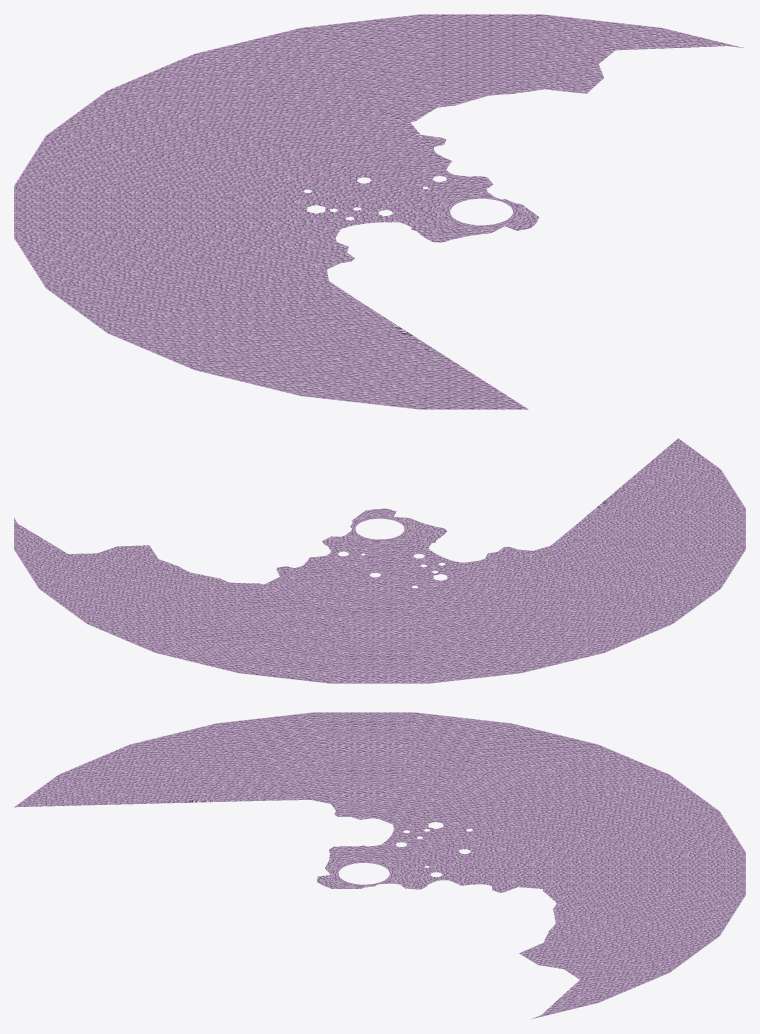
The model's file is mareseapollutions12.dae.
3 renders of one model, top to bottom at view 1: azimuth 30°, elevation 25°; view 2: azimuth 150°, elevation 25°; view 3: azimuth 270°, elevation 25°, orthographic. The views are drawn at different scales.
Visible parts, largest first — view 1: m0; view 2: m0; view 3: m0.
Part boxes in pixels (bbox=[...]): m0: bbox=[14, 14, 743, 409]; m0: bbox=[14, 438, 745, 683]; m0: bbox=[14, 712, 745, 1019].
Bounding box in the file's own units: 60402 × 0 × 60811.
1 material, 1 textured.
